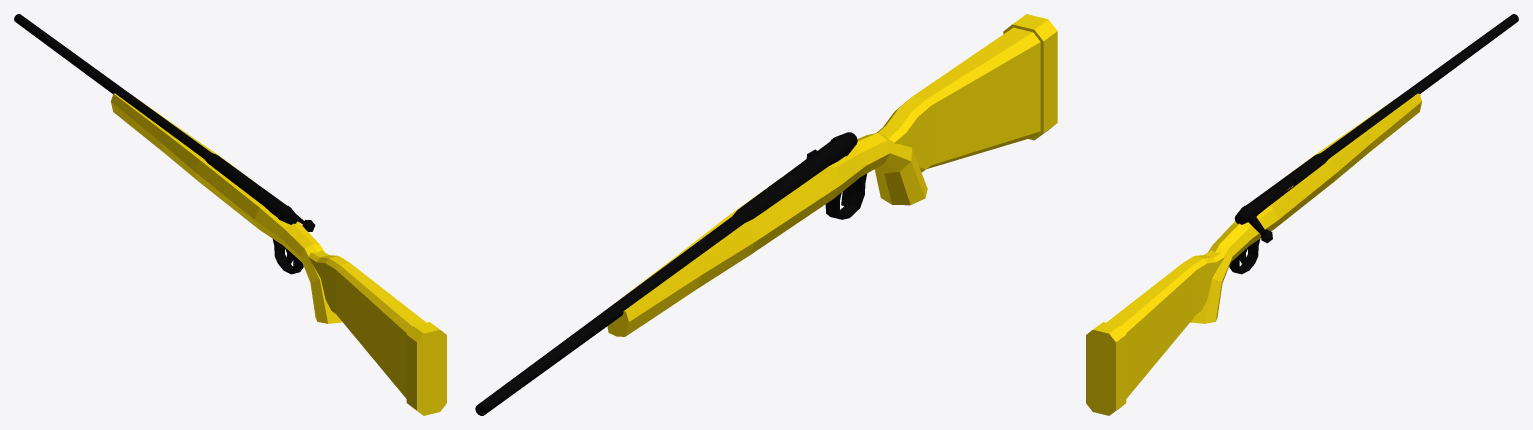
The model's file is sniper.fbx.
3 renders of one model, left to right at view 1: azimuth 30°, elevation 25°; view 2: azimuth 150°, elevation 25°; view 3: azimuth 330°, elevation 25°, orthographic. The views are drawn at different scales.
Visible parts, largest first — view 1: Sniper_01; view 2: Sniper_01; view 3: Sniper_01.
Part boxes in pixels (x1,y1,x2,y2): Sniper_01: [14, 14, 446, 415]; Sniper_01: [475, 14, 1057, 415]; Sniper_01: [1086, 14, 1518, 415].
Size of the model in its own units: 27.59 by 62.84 by 469.
